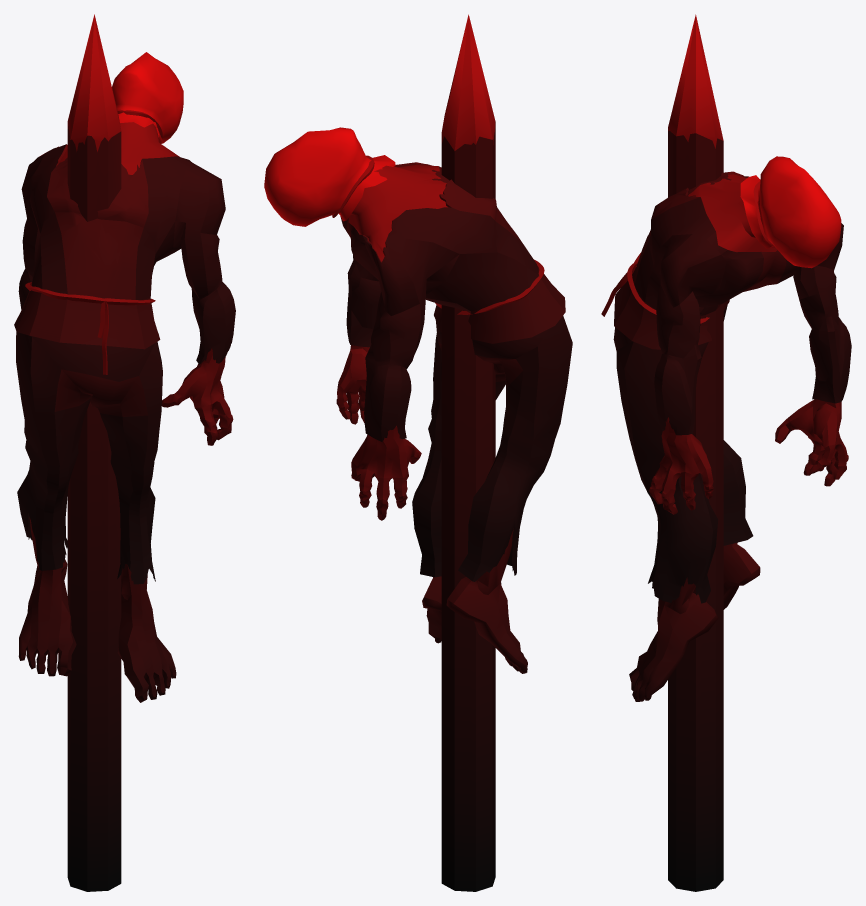
The model's file is DeadFarmer_Pike_02.fbx.
The picture shows the model from 3 angles, left to right: view 1: azimuth 30°, elevation 25°; view 2: azimuth 150°, elevation 25°; view 3: azimuth 270°, elevation 25°; orthographic projection.
Parts seen in each view (by area): view 1: farmer_death_02; view 2: farmer_death_02; view 3: farmer_death_02.
Boxes of the visible parts, x1,y1,x2,y2 form: farmer_death_02: [14, 14, 235, 891]; farmer_death_02: [264, 14, 572, 891]; farmer_death_02: [601, 14, 851, 891].
Bounding box in the file's own units: 94.39 × 344 × 90.08.
